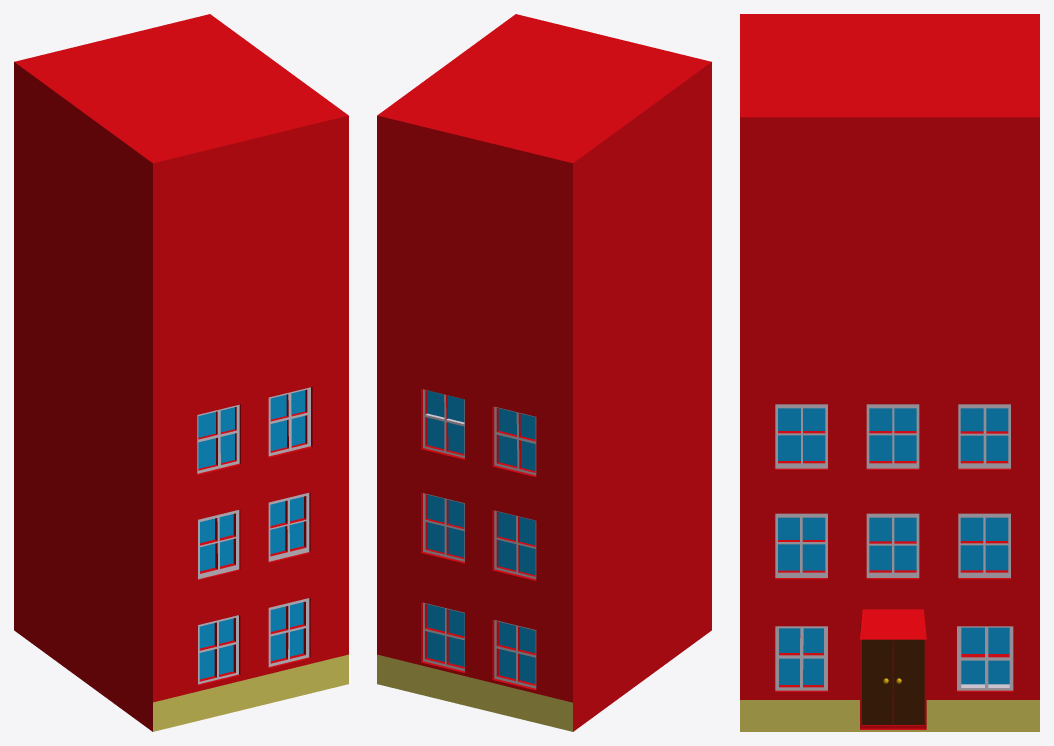
Rendered from High Rise 1 Red.fbx.
The picture shows the model from 3 angles, left to right: view 1: azimuth 30°, elevation 25°; view 2: azimuth 150°, elevation 25°; view 3: azimuth 270°, elevation 25°; orthographic projection. The views are drawn at different scales.
Visible parts, largest first — view 1: Cube; view 2: Cube; view 3: Cube.
Boxes of the visible parts, <box> form: Cube: <box>14,14,348,731</box>; Cube: <box>377,14,711,731</box>; Cube: <box>740,14,1039,731</box>.
Size of the model in its own units: 314 by 791 by 350.
